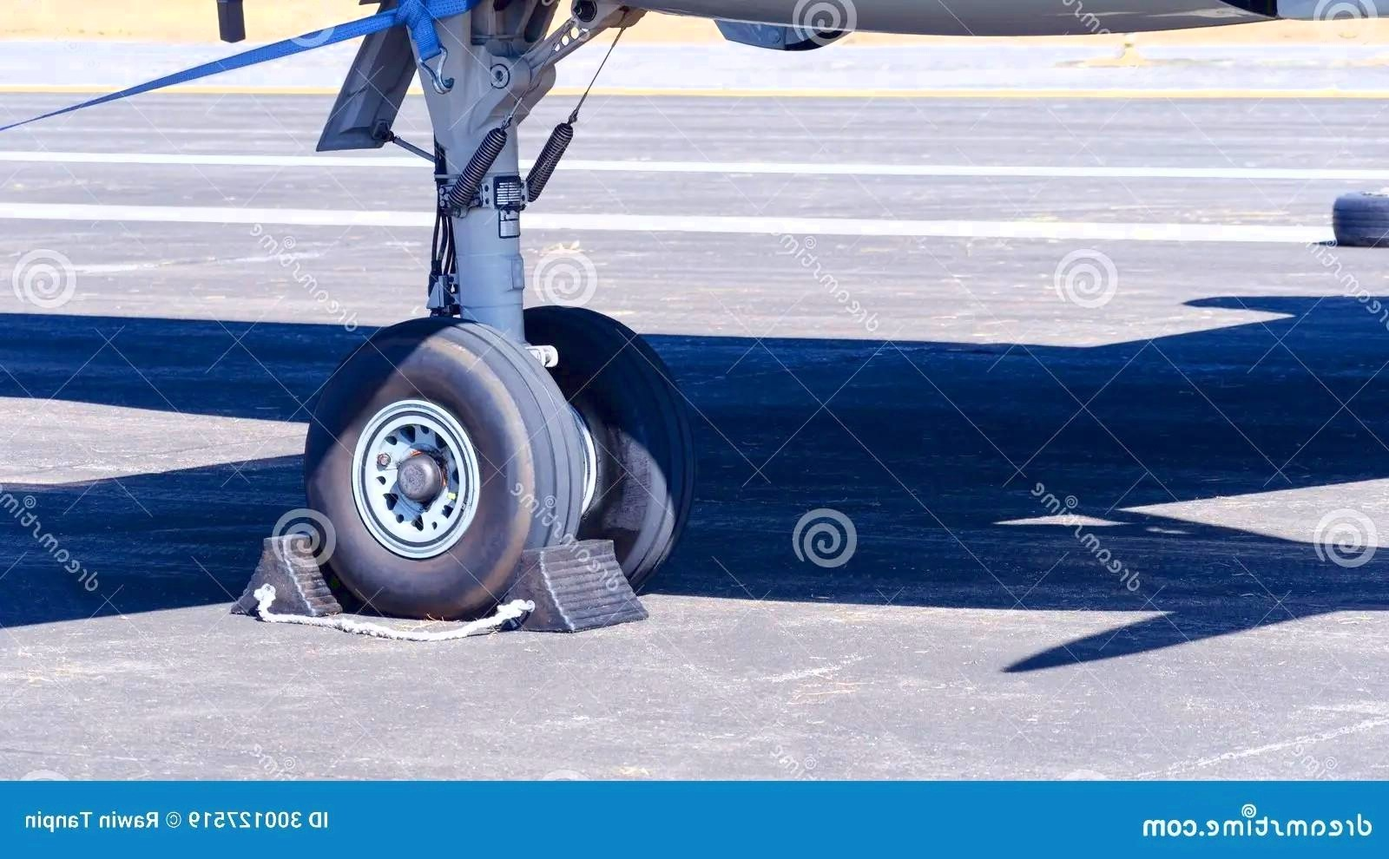chock: (499, 537, 655, 636), (229, 531, 345, 626)
wheel: (305, 316, 587, 616), (516, 303, 699, 596), (1331, 189, 1388, 248)
